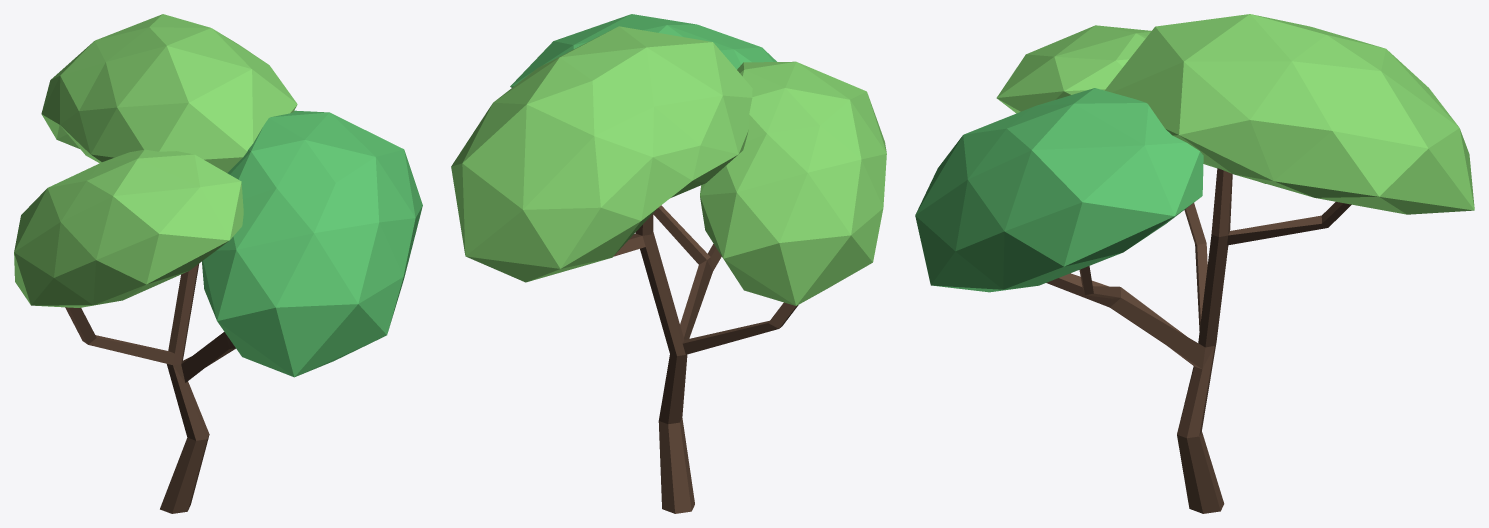
Rendered from Tree_Type1_3.fbx.
3 renders of one model, left to right at view 1: azimuth 30°, elevation 25°; view 2: azimuth 150°, elevation 25°; view 3: azimuth 270°, elevation 25°, orthographic. The views are drawn at different scales.
Visible parts, largest first — view 1: Tree_Type1_3; view 2: Tree_Type1_3; view 3: Tree_Type1_3.
Boxes of the visible parts, <box> form: Tree_Type1_3: <box>14,14,422,513</box>; Tree_Type1_3: <box>451,14,886,513</box>; Tree_Type1_3: <box>915,14,1474,513</box>.
Bounding box in the file's own units: 396 × 484 × 493.
